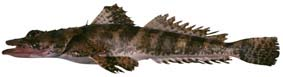fish: (2, 3, 280, 73)
